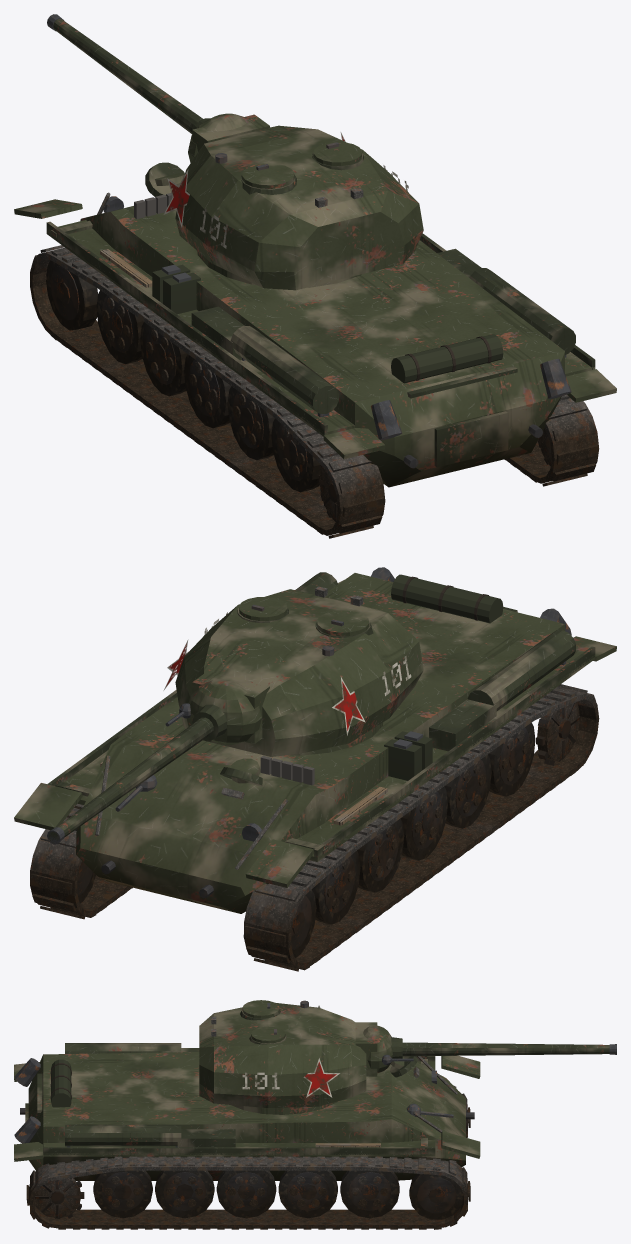
The picture shows the model from 3 angles, top to bottom: view 1: azimuth 30°, elevation 25°; view 2: azimuth 150°, elevation 25°; view 3: azimuth 270°, elevation 25°; orthographic projection. The views are drawn at different scales.
Visible parts, largest first — view 1: t34_hull, t34_turret, t34_barrel, t34_gun; view 2: t34_hull, t34_turret, t34_gun, t34_barrel; view 3: t34_hull, t34_turret, t34_barrel, t34_gun.
Boxes of the visible parts, x1,y1,x2,y2 form: t34_hull: (14, 162, 616, 538); t34_turret: (163, 125, 423, 290); t34_barrel: (47, 14, 202, 133); t34_gun: (188, 113, 269, 162); t34_hull: (14, 567, 616, 971); t34_turret: (163, 586, 423, 756); t34_gun: (165, 671, 269, 744); t34_barrel: (47, 717, 213, 844); t34_hull: (14, 1043, 480, 1229); t34_turret: (199, 1000, 366, 1107); t34_barrel: (402, 1042, 616, 1056); t34_gun: (355, 1022, 413, 1076).
Size of the model in its own units: 3.06 by 2.56 by 8.3.
8 materials, 8 textured.
